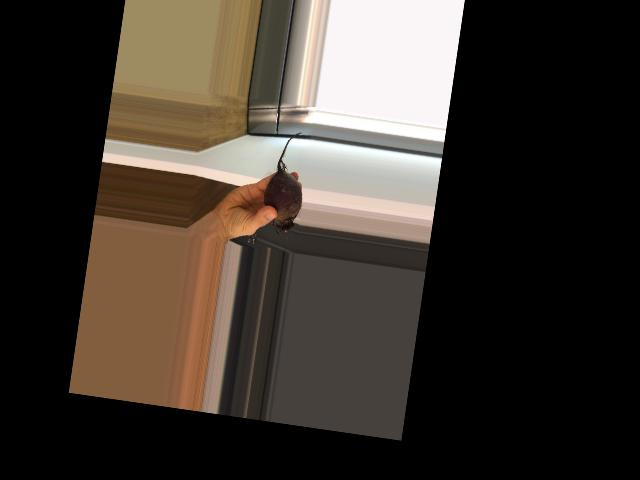beet: (259, 128, 312, 237)
